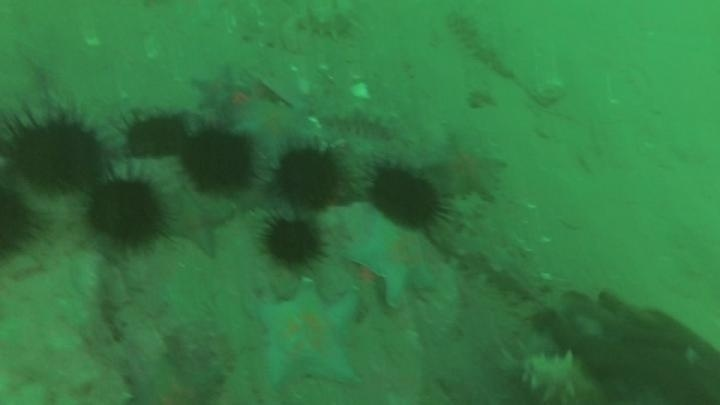echinus: (7, 116, 105, 193), (85, 179, 165, 249), (368, 166, 445, 231), (180, 129, 255, 193), (274, 148, 344, 211), (259, 215, 325, 270), (123, 113, 188, 161), (1, 185, 41, 261)
holothurian: (441, 228, 542, 298), (512, 349, 605, 404), (446, 10, 517, 81), (286, 2, 361, 42), (322, 107, 398, 143), (205, 328, 239, 395)
starfish: (248, 279, 364, 392), (345, 221, 442, 308), (422, 131, 508, 202), (235, 97, 316, 165), (128, 351, 225, 405), (165, 189, 236, 258), (190, 63, 259, 121)
